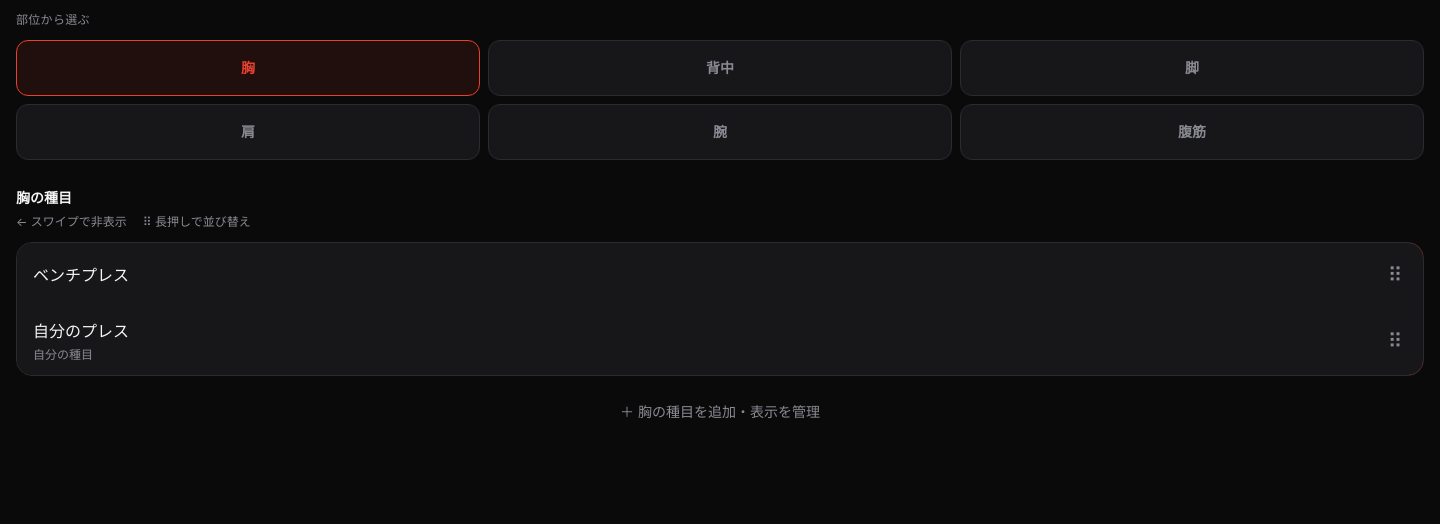
Test: ExercisePicker › saves a keyboard reorder directly, retains failed order and retries
This screenshot has width=1440, height=524.
Click the button named "自分のプレスを長押しして並び替え" at (1395,341), box [1367,313,1423,369]
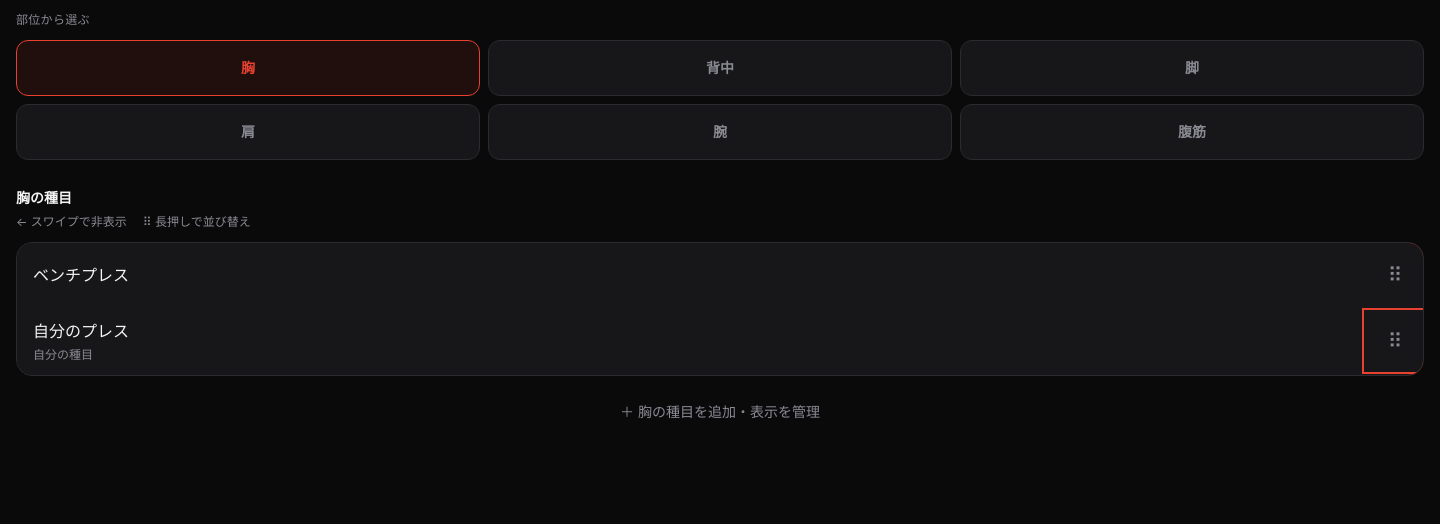
Press Arrowup
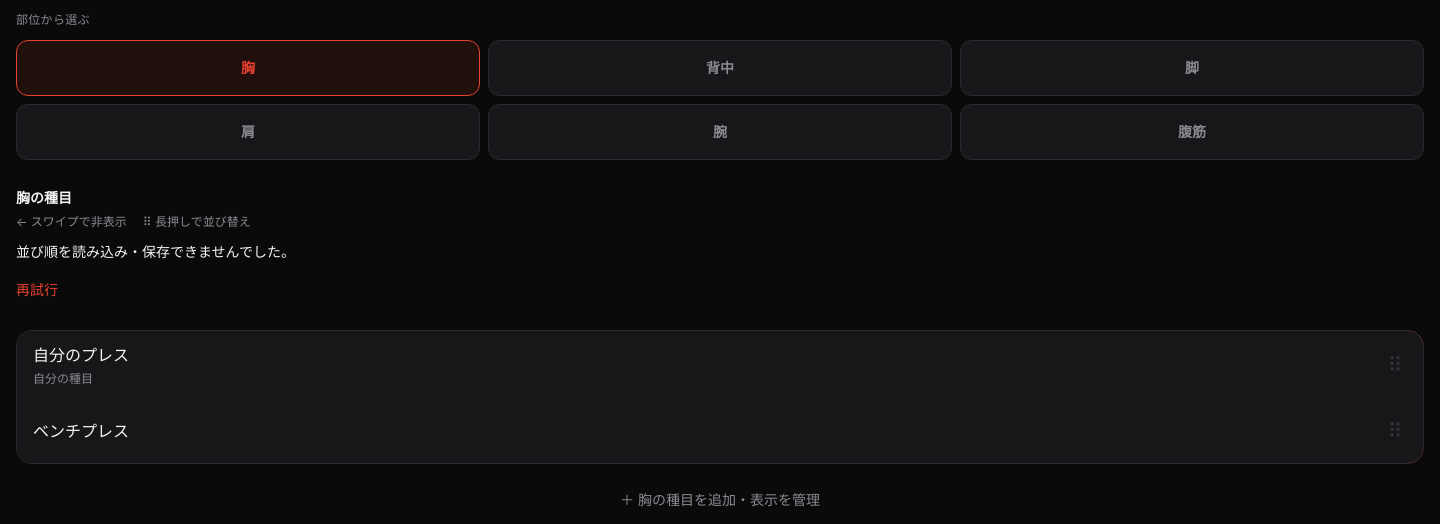
Now the message "並び順を読み込み・保存できませんでした。" is shown, box [16,243,295,260]
Click the button "再試行" at (37,290), box [16,262,58,318]
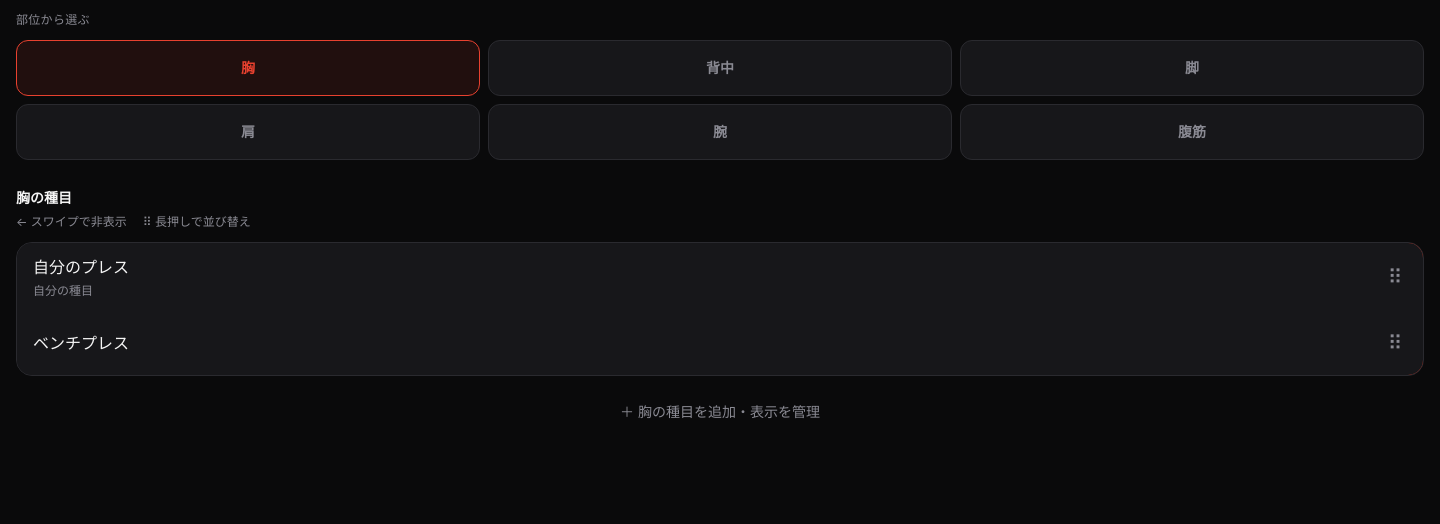
Now the message "並び順を読み込み・保存できませんでした。" is gone
